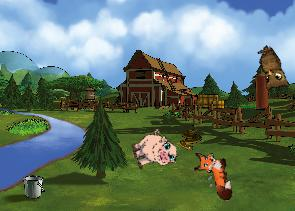fox: (191, 147, 234, 204)
owl: (245, 43, 294, 97)
pig: (127, 126, 180, 176)
